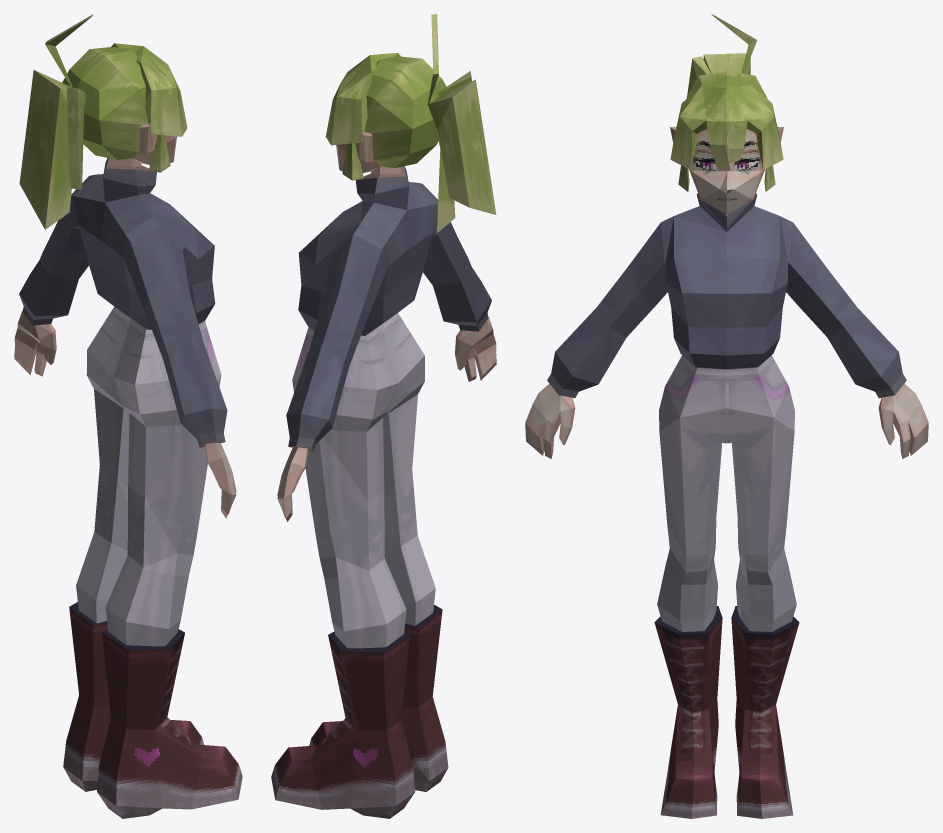
File: Shum_MC.gltf
3 views of the same model, side by side, from view 1: azimuth 30°, elevation 25°; view 2: azimuth 150°, elevation 25°; view 3: azimuth 270°, elevation 25° (orthographic). The views are drawn at different scales.
Visible parts, largest first — view 1: Shum_MC_model; view 2: Shum_MC_model; view 3: Shum_MC_model.
Part boxes in pixels (x1=…): Shum_MC_model: x1=14, y1=14, x2=242, y2=818; Shum_MC_model: x1=271, y1=14, x2=496, y2=818; Shum_MC_model: x1=525, y1=14, x2=928, y2=818.
Size of the model in its own units: 0.5096 by 1.99 by 0.9753.
Materials: 2 (2 with a texture image).
